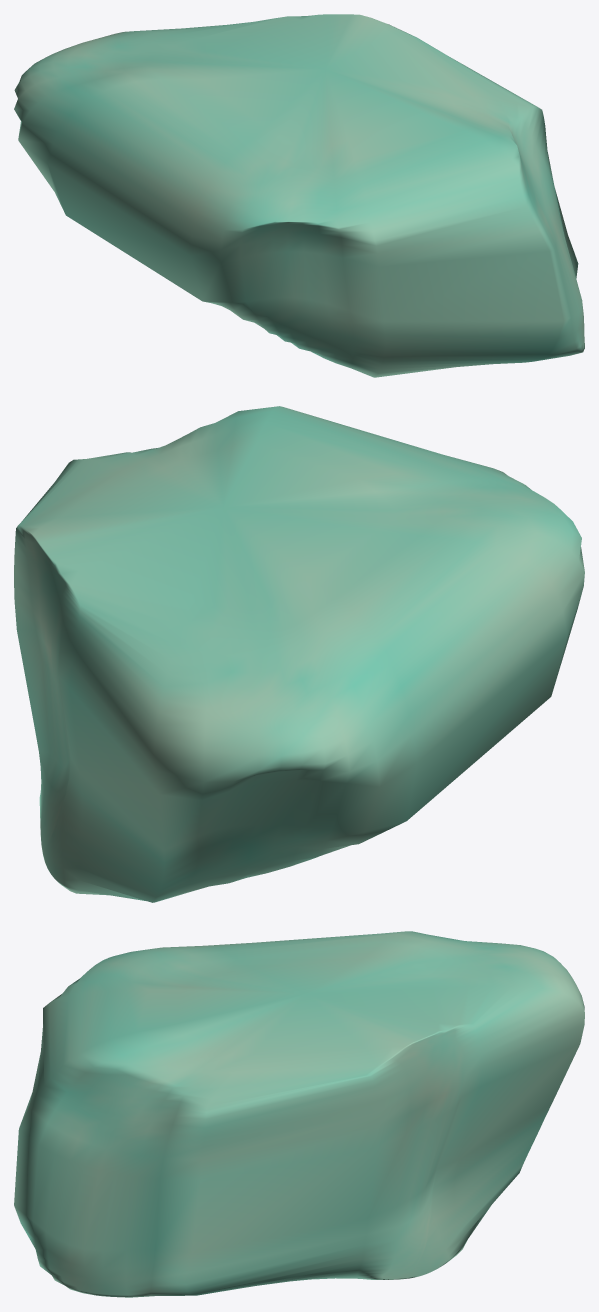
The model's file is SM_Rock_09.glb.
3 views of the same model, one above another, from view 1: azimuth 30°, elevation 25°; view 2: azimuth 150°, elevation 25°; view 3: azimuth 270°, elevation 25° (orthographic). The views are drawn at different scales.
Parts seen in each view (by area): view 1: SM_Rock_09; view 2: SM_Rock_09; view 3: SM_Rock_09.
Part boxes in pixels (<box>): SM_Rock_09: <box>14,14,584,377</box>; SM_Rock_09: <box>14,406,584,902</box>; SM_Rock_09: <box>14,931,584,1297</box>.
Bounding box in the file's own units: 0.8913 × 0.5179 × 1.09.
